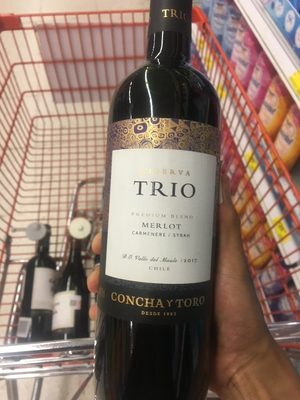trio merlot: (90, 18, 244, 369)
